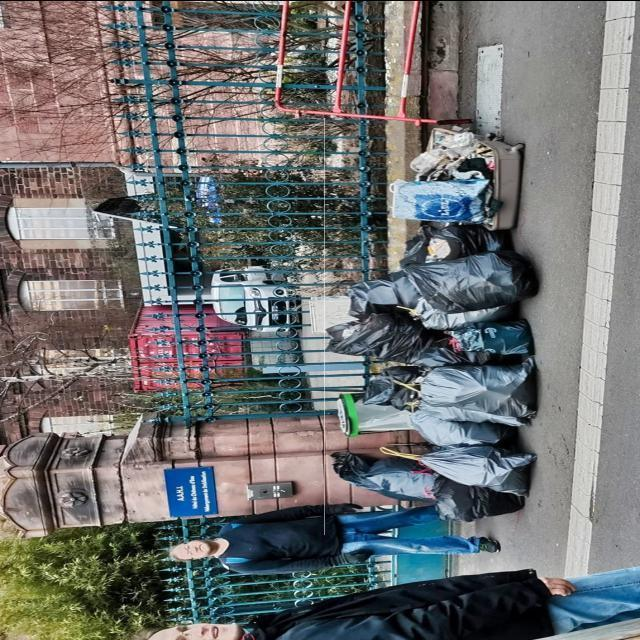Trashbag: (416, 359, 543, 424), (413, 251, 538, 313), (424, 442, 537, 496), (330, 450, 434, 504), (423, 477, 527, 526), (327, 312, 423, 363), (406, 405, 507, 445), (420, 220, 512, 261), (352, 266, 418, 319), (361, 366, 424, 420), (453, 319, 530, 361)
